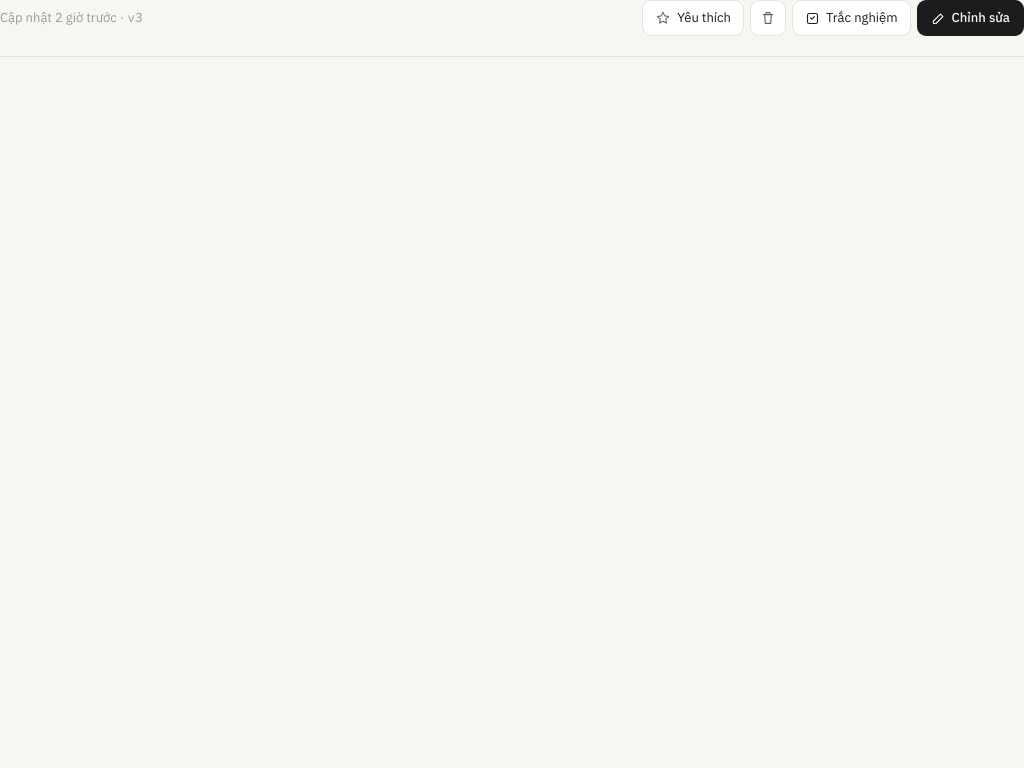
Test: DetailActions › deletes and returns to the dashboard on confirm
Click the button named "Xoá" at coordinates (768, 18), box [750,0,786,36]
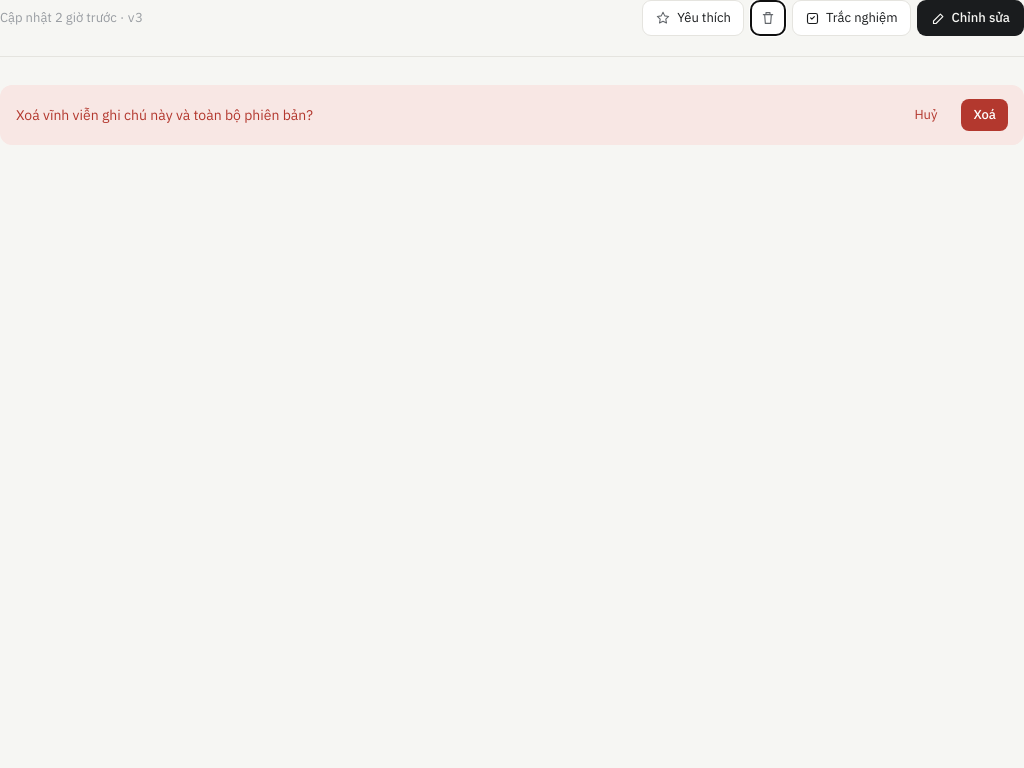
Click the button "Xoá" at coordinates (985, 115), box [962,99,1008,131]
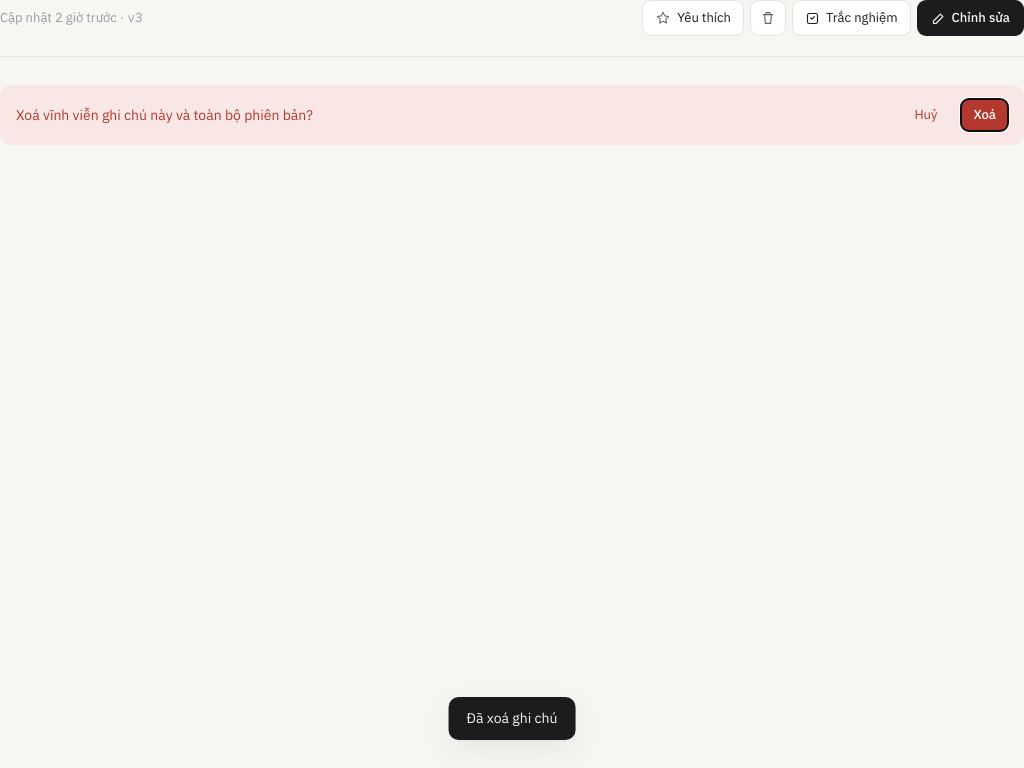
Now the text "Đã xoá ghi chú" is shown, box [449,697,576,740]
